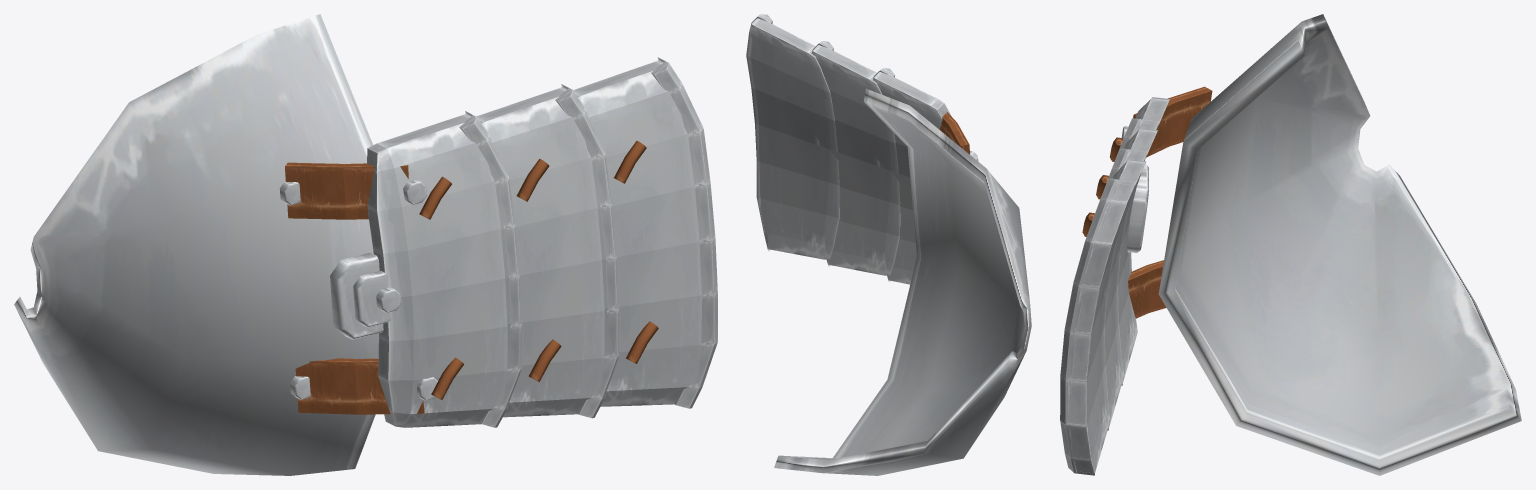
Rendered from Armor_RightShoulder.fbx.
The picture shows the model from 3 angles, left to right: view 1: azimuth 30°, elevation 25°; view 2: azimuth 150°, elevation 25°; view 3: azimuth 270°, elevation 25°; orthographic projection. The views are drawn at different scales.
Parts seen in each view (by area): view 1: Right_compact_protective_joint_cap, Right_bowed_sode_course_0, Right_bowed_sode_course_2, Right_bowed_sode_course_1, Right_broad_sode_edge_2, Right_broad_sode_edge_1, Right_load_bearing_sode_hanger_0_051, Right_load_bearing_sode_hanger__0_051, Right_broad_sode_edge_0, Right_sode_suspension_hinge, Right_hinge_bronze_cover; view 2: Right_compact_protective_joint_cap, Right_bowed_sode_course_2, Right_bowed_sode_course_1, Right_bowed_sode_course_0, Right_load_bearing_sode_hanger_0_051; view 3: Right_compact_protective_joint_cap, Right_bowed_sode_course_2, Right_broad_sode_edge_2, Right_bowed_sode_course_1, Right_bowed_sode_course_0, Right_load_bearing_sode_hanger_0_051, Right_load_bearing_sode_hanger__0_051, Right_sode_suspension_hinge.
Part boxes in pixels (box(x1,y1,x2,y2)): Right_compact_protective_joint_cap: box(14, 14, 378, 475); Right_bowed_sode_course_0: box(367, 111, 507, 427); Right_bowed_sode_course_2: box(573, 57, 701, 406); Right_bowed_sode_course_1: box(476, 84, 604, 417); Right_broad_sode_edge_2: box(651, 61, 717, 408); Right_broad_sode_edge_1: box(555, 88, 619, 418); Right_load_bearing_sode_hanger_0_051: box(285, 162, 408, 219); Right_load_bearing_sode_hanger__0_051: box(295, 358, 424, 414); Right_broad_sode_edge_0: box(459, 115, 521, 427); Right_sode_suspension_hinge: box(330, 252, 383, 339); Right_hinge_bronze_cover: box(353, 271, 391, 327); Right_compact_protective_joint_cap: box(774, 88, 1031, 475); Right_bowed_sode_course_2: box(746, 17, 839, 259); Right_bowed_sode_course_1: box(811, 43, 900, 275); Right_bowed_sode_course_0: box(873, 71, 950, 284); Right_load_bearing_sode_hanger_0_051: box(939, 112, 970, 154); Right_compact_protective_joint_cap: box(1158, 14, 1521, 475); Right_bowed_sode_course_2: box(1068, 160, 1146, 475); Right_broad_sode_edge_2: box(1060, 178, 1120, 473); Right_bowed_sode_course_1: box(1103, 129, 1157, 430); Right_bowed_sode_course_0: box(1116, 97, 1170, 385); Right_load_bearing_sode_hanger_0_051: box(1133, 86, 1212, 157); Right_load_bearing_sode_hanger__0_051: box(1128, 260, 1166, 318); Right_sode_suspension_hinge: box(1127, 164, 1148, 252).
Size of the model in its own units: 29.4 by 26.39 by 25.46.
5 materials, 5 textured.
